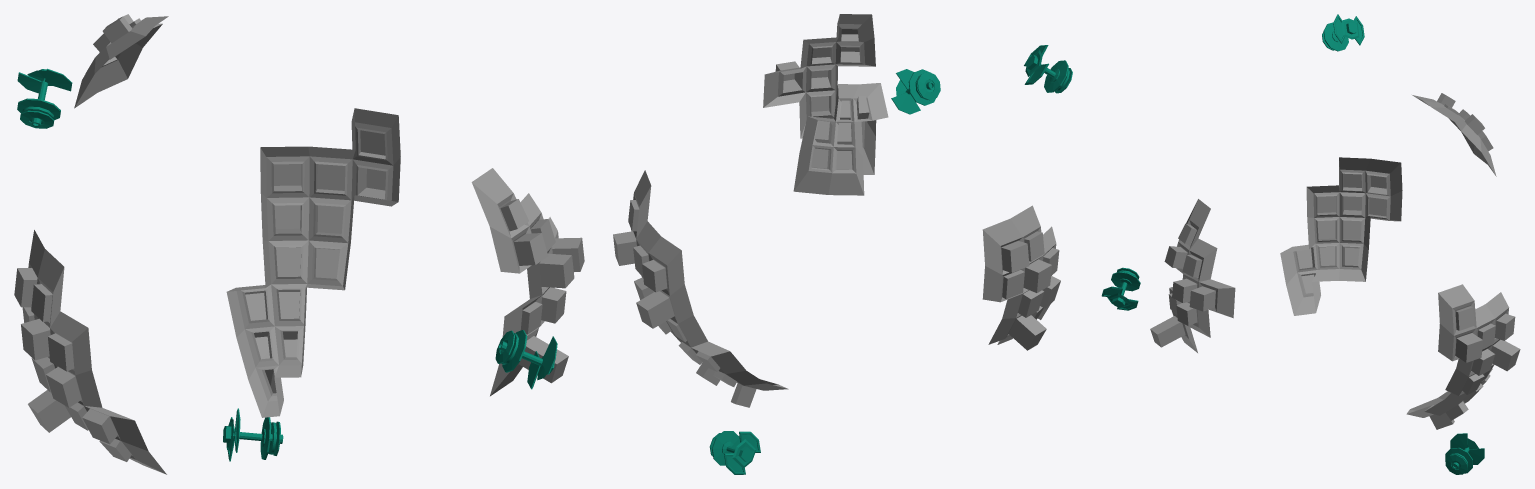
Rendered from SpaceAge.obj.
The picture shows the model from 3 angles, left to right: view 1: azimuth 30°, elevation 25°; view 2: azimuth 150°, elevation 25°; view 3: azimuth 270°, elevation 25°; orthographic projection. The views are drawn at different scales.
Visible parts, largest first — view 1: Object002, Object003, Object001, Cylinder001, Object004; view 2: Object002, Object003, Object001, Object004, Cylinder001; view 3: Object003, Object002, Object001, Cylinder001, Object004.
Part boxes in pixels (box(x1,y1,x2,y2)): Object002: box(226, 108, 400, 417); Object003: box(14, 230, 166, 474); Object001: box(471, 168, 584, 396); Cylinder001: box(17, 68, 557, 461); Object004: box(74, 14, 168, 108); Object002: box(613, 170, 788, 407); Object003: box(982, 205, 1060, 350); Object001: box(763, 14, 876, 174); Object004: box(793, 83, 888, 195); Cylinder001: box(709, 45, 1072, 474); Object003: box(1280, 157, 1402, 315); Object002: box(1406, 284, 1520, 429); Object001: box(1150, 199, 1235, 352); Cylinder001: box(1101, 14, 1484, 474); Object004: box(1412, 93, 1496, 176).
Size of the model in its own units: 591 by 636 by 673.
